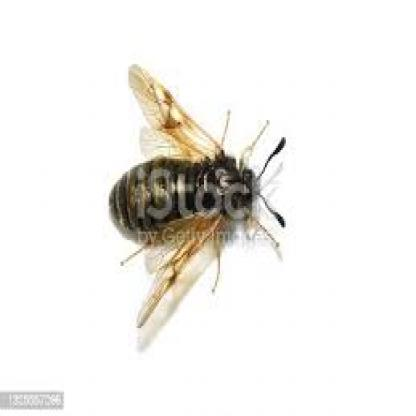sawfly: (104, 60, 292, 337)
